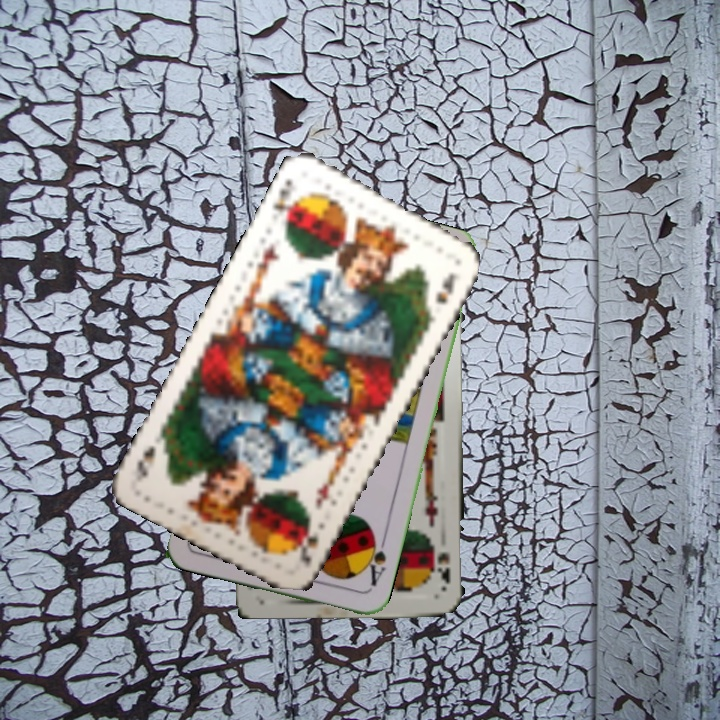SA: (360, 532, 389, 593)
SK: (268, 175, 303, 228), (292, 517, 328, 567), (429, 541, 453, 586)
